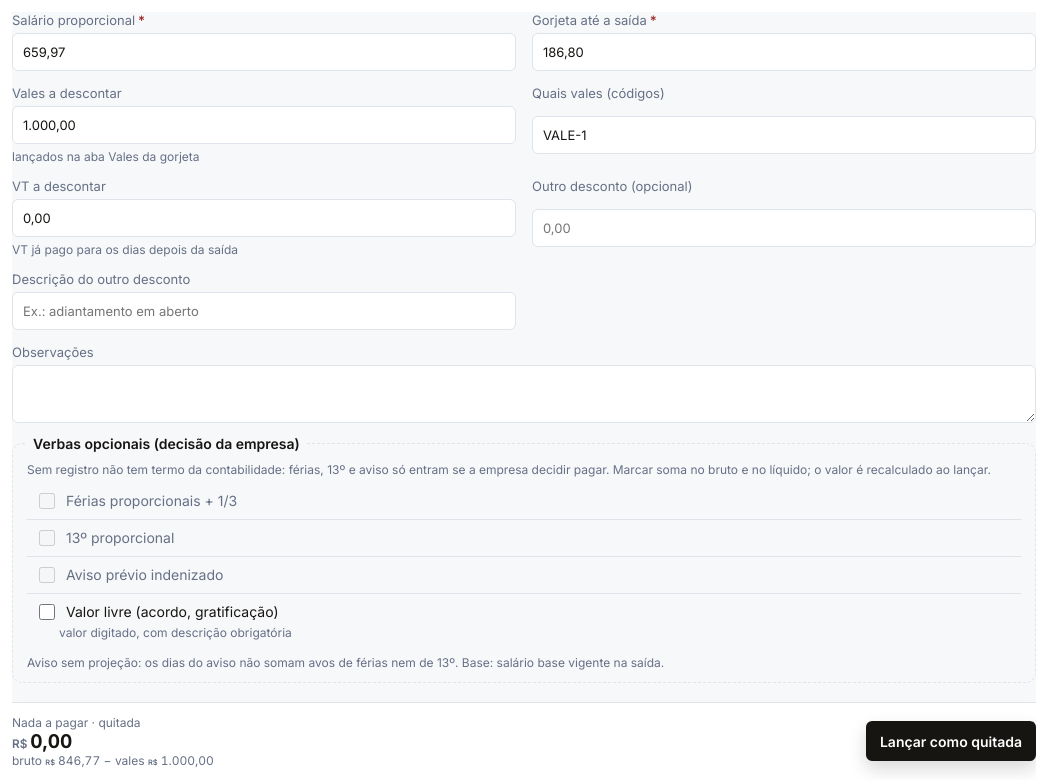
Scenario: RescisaoFormulario — líquido zero ou negativo › negativo: não bloqueia, explica o perdão, esconde parcelas e lança como quitada
Click the button "Lançar como quitada".
click(951, 742)  # box [866,722,1036,762]
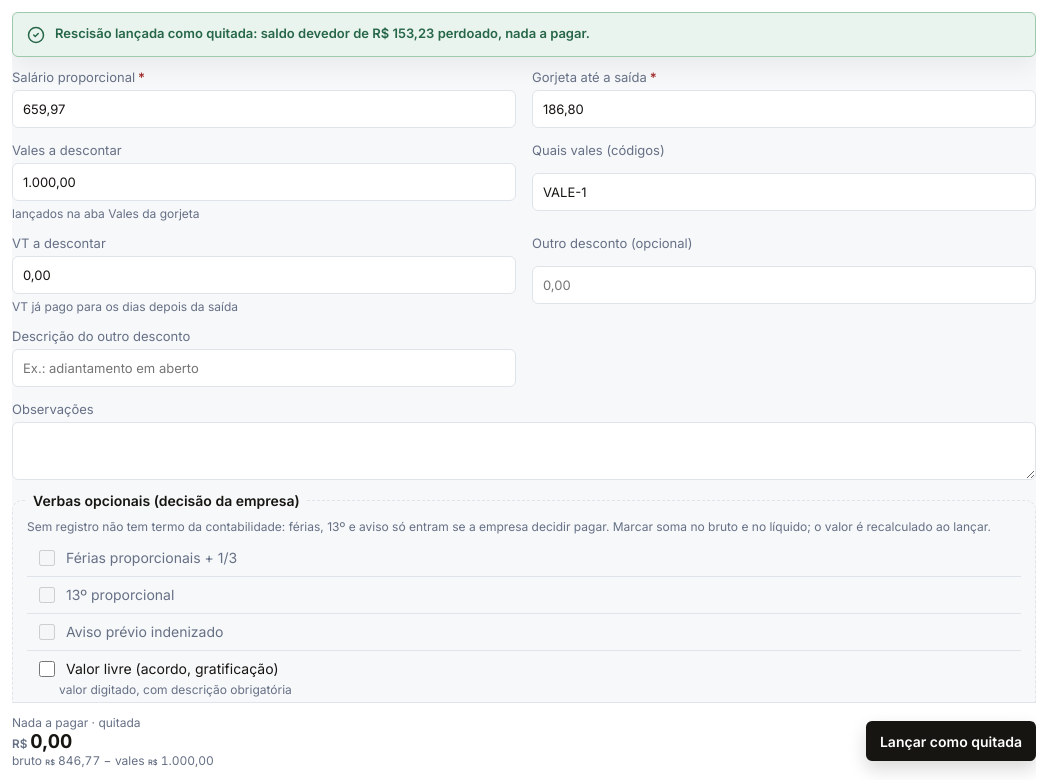
Check: the text "Rescisão lançada como quitada" shows "Rescisão lançada como quitada: saldo devedor de R$ 153,23 perdoado, nada a pagar.", box [55,25,590,41]
